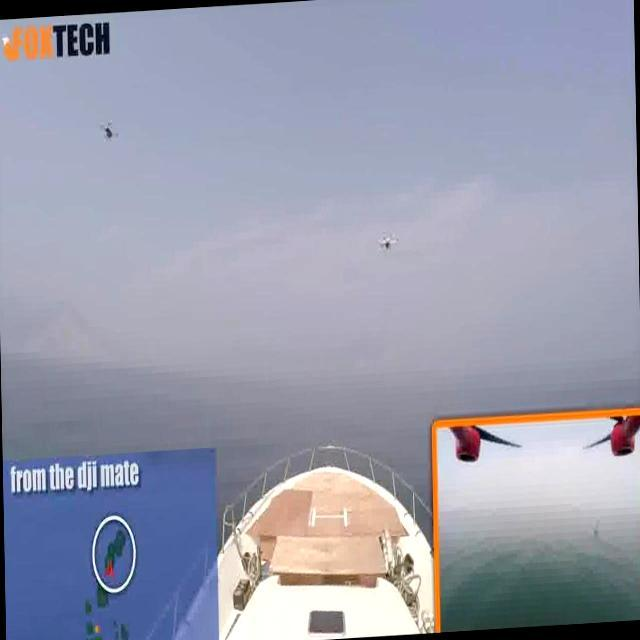drone: (371, 218, 411, 266), (99, 117, 122, 151)
